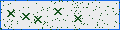x: (53, 7, 63, 17), (6, 9, 16, 18), (22, 12, 31, 22), (34, 15, 43, 25), (73, 14, 82, 24)
